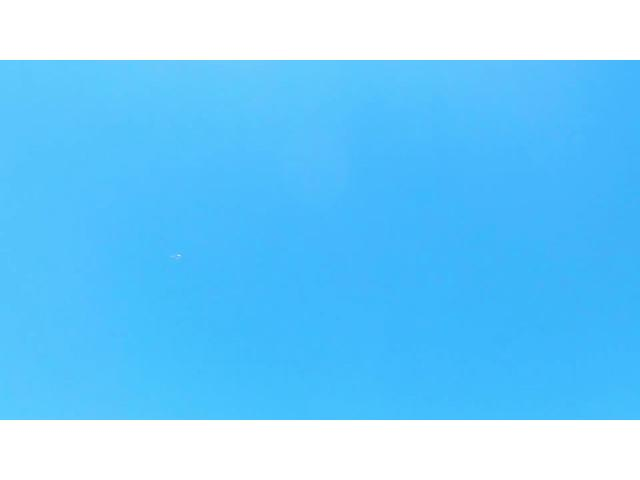Anti-Drone: (165, 245, 189, 267)
